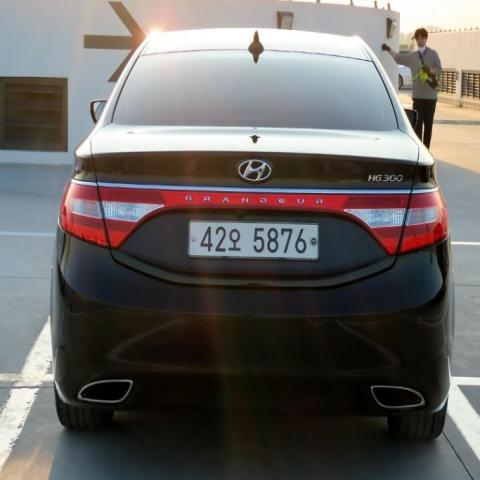LP: (185, 217, 320, 266)
